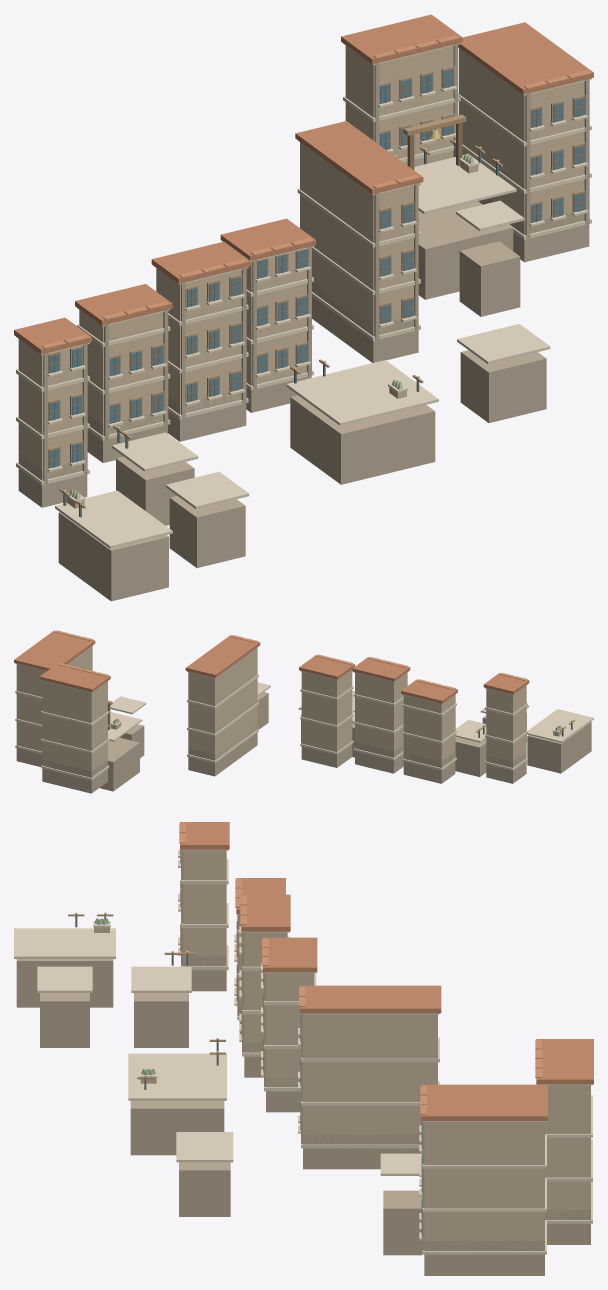
Rendered from BellArcadeExterior.glb.
3 views of the same model, one above another, from view 1: azimuth 30°, elevation 25°; view 2: azimuth 150°, elevation 25°; view 3: azimuth 270°, elevation 25° (orthographic). The views are drawn at different scales.
Parts seen in each view (by area): view 1: BellArcadeExterior; view 2: BellArcadeExterior; view 3: BellArcadeExterior.
Part boxes in pixels (<box>): BellArcadeExterior: <box>14,14,593,601</box>; BellArcadeExterior: <box>14,630,593,793</box>; BellArcadeExterior: <box>14,822,593,1275</box>.
Bounding box in the file's own units: 46.61 × 12.88 × 36.06.
